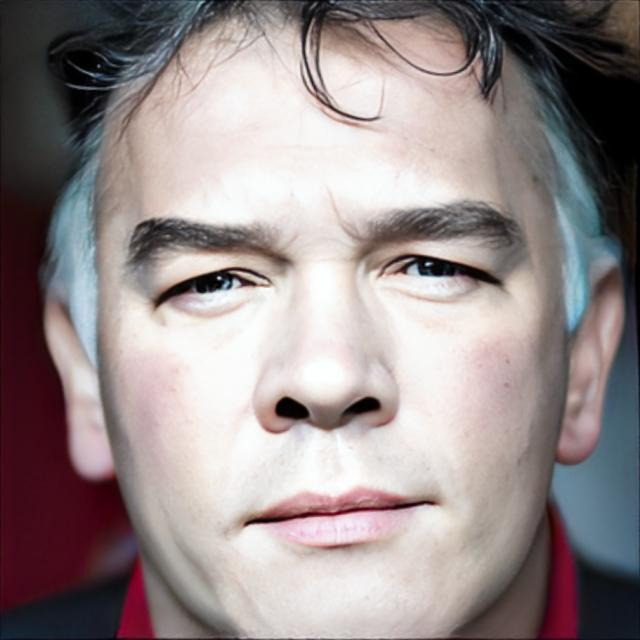neutral: (101, 2, 566, 640)
